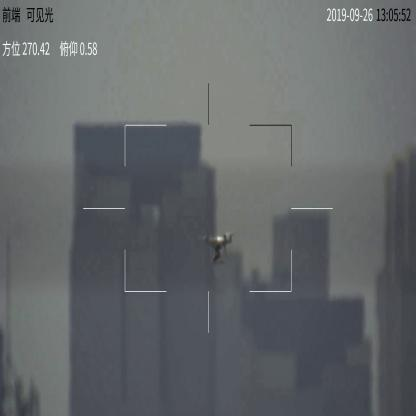uav: (198, 231, 239, 266)
